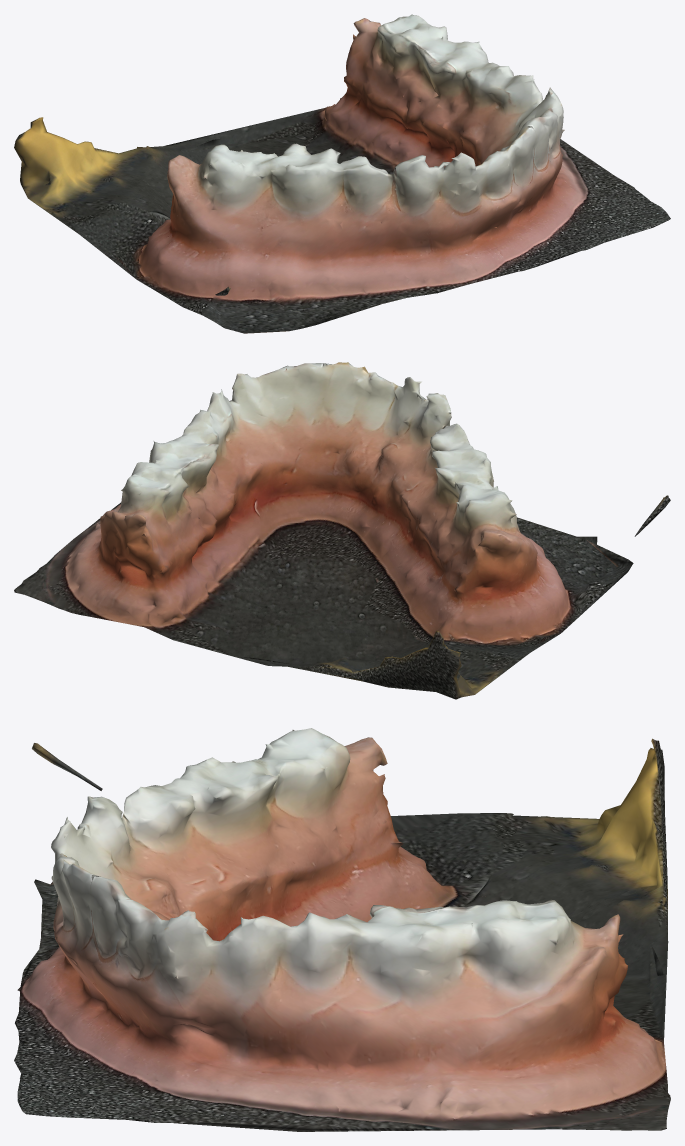
File: asset.glb
The picture shows the model from 3 angles, top to bottom: view 1: azimuth 30°, elevation 25°; view 2: azimuth 150°, elevation 25°; view 3: azimuth 270°, elevation 25°; orthographic projection. The views are drawn at different scales.
Size of the model in its own units: 1000 by 297 by 849.
1 material, 1 textured.
